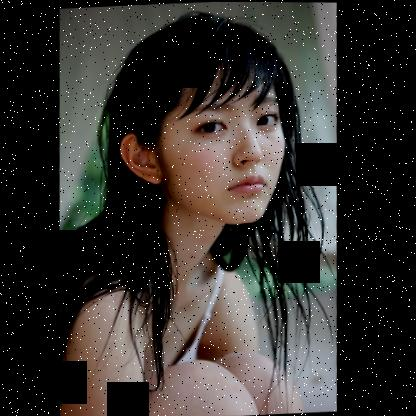Female: (112, 61, 291, 232)
